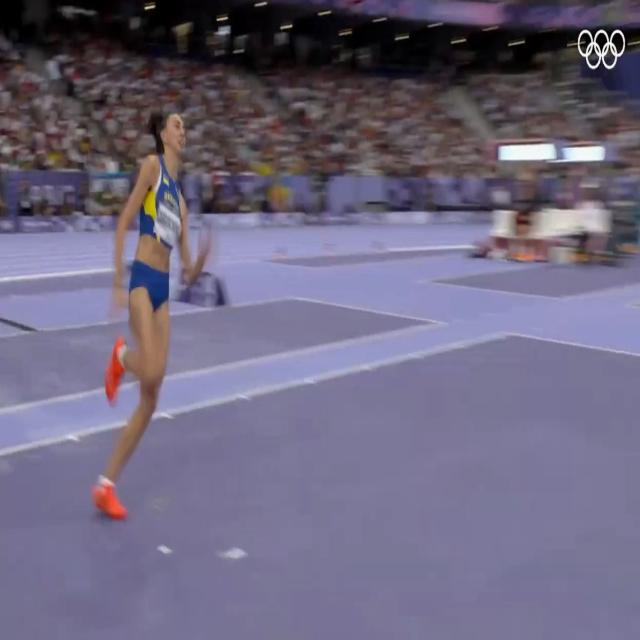run: (94, 113, 209, 515)
